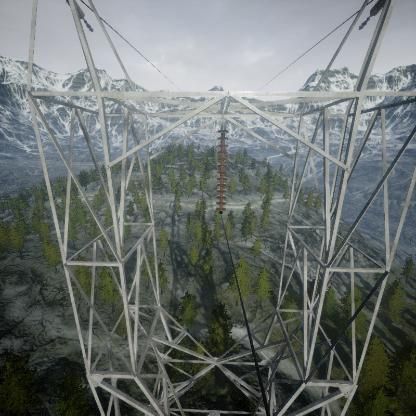insulator: (215, 124, 231, 215)
